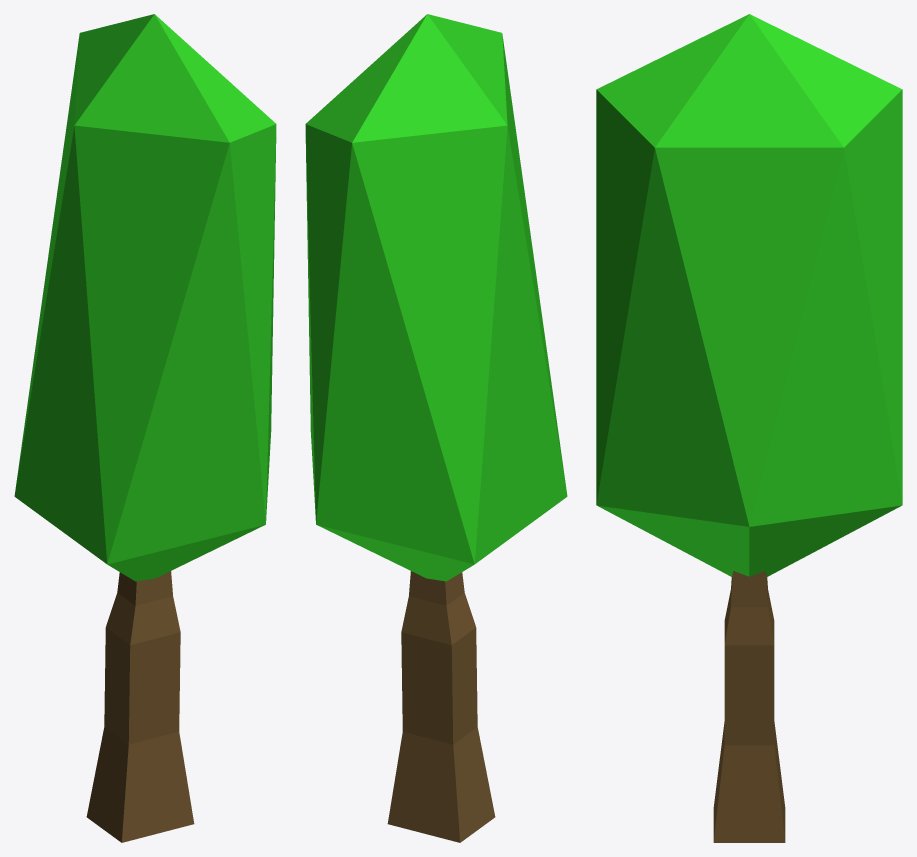
File: Tree3.fbx
The picture shows the model from 3 angles, left to right: view 1: azimuth 30°, elevation 25°; view 2: azimuth 150°, elevation 25°; view 3: azimuth 270°, elevation 25°; orthographic projection.
Visible parts, largest first — view 1: Tree.003; view 2: Tree.003; view 3: Tree.003.
Boxes of the visible parts, x1,y1,x2,y2 form: Tree.003: (14,14,276,842); Tree.003: (305,14,567,842); Tree.003: (596,14,902,842).
Bounding box in the file's own units: 156 × 570 × 193.
